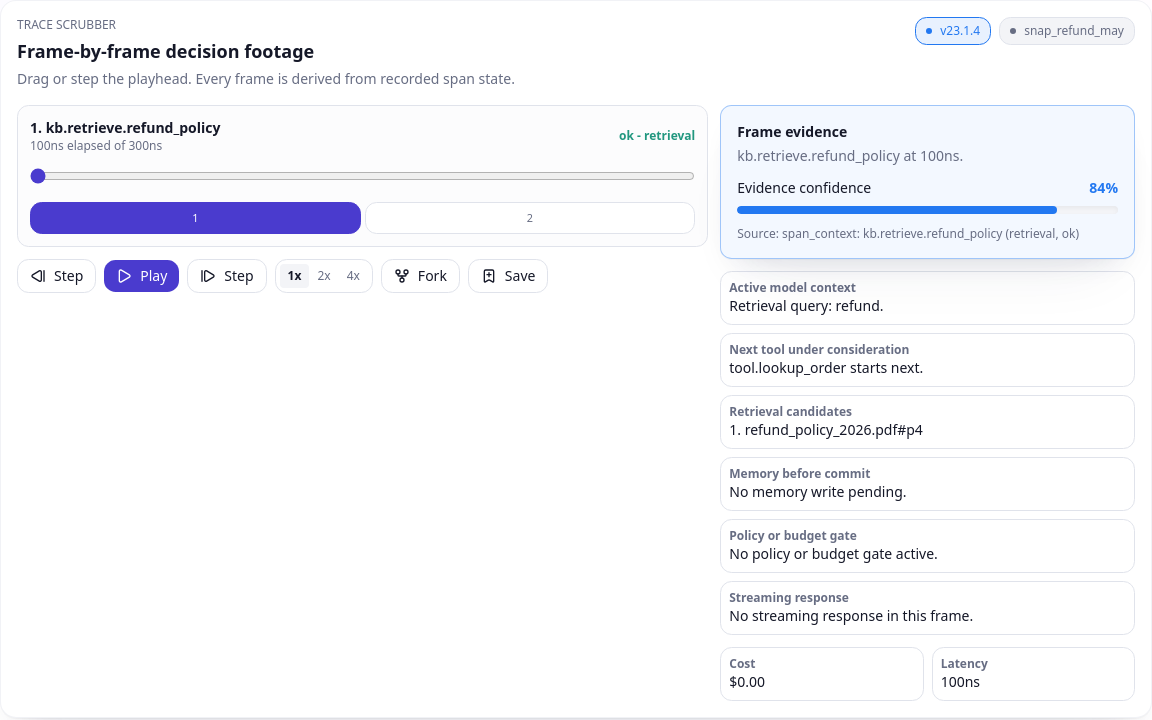
TraceScrubber › scrubs between recorded frames and shows per-frame evidence
Expected: the element with test id "trace-frame-detail" shows "refund_policy_2026.pdf#p4", [729,420,923,439]
Set the slider with test id "trace-scrubber-range" to "1" at (687, 176), box [30,168,695,184]
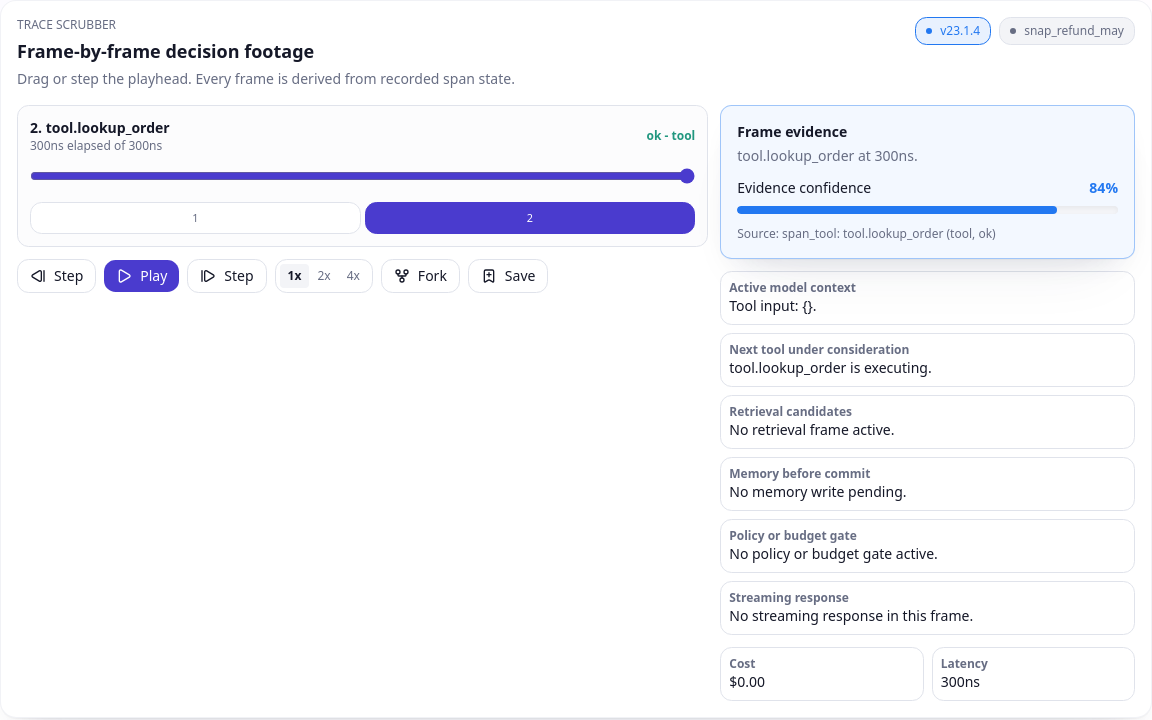
Now the element with test id "trace-frame-detail" shows "tool.lookup_order is executing", box [729,358,932,377]
